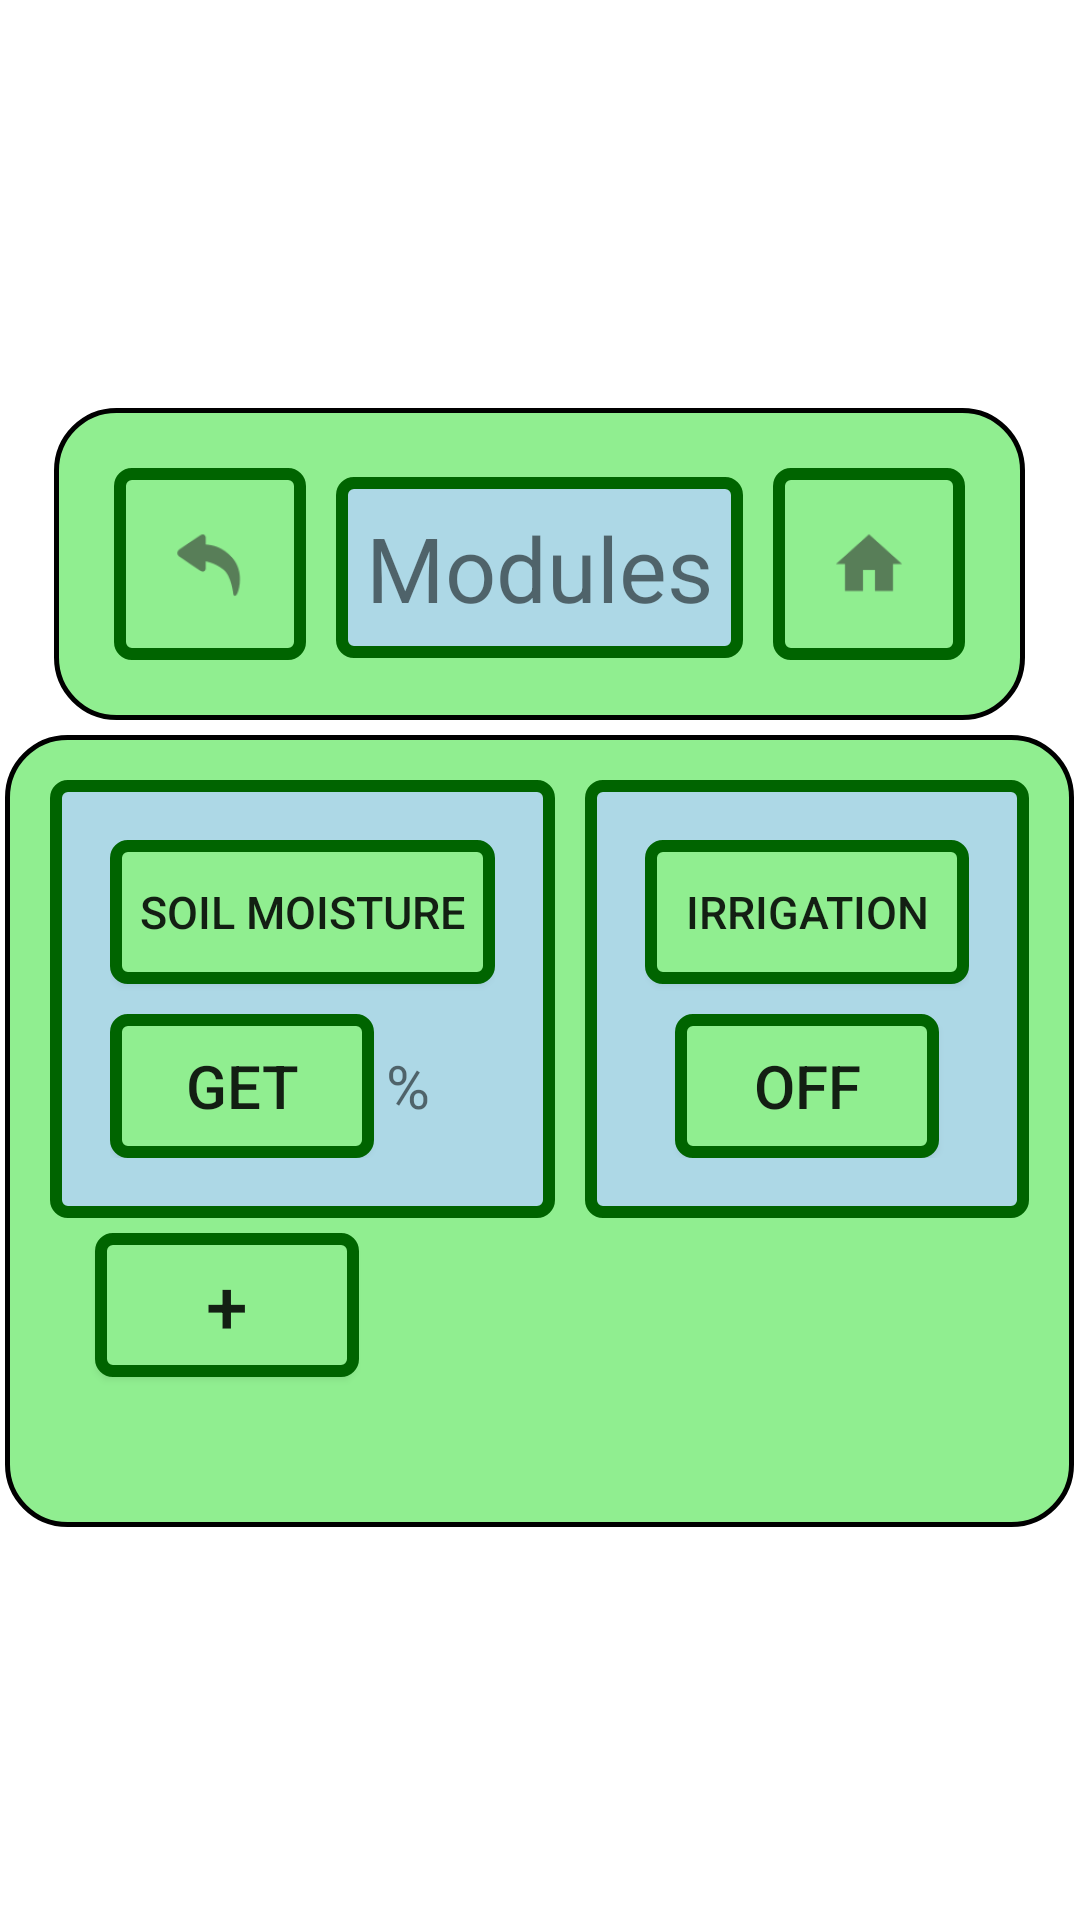

Icons on this 1080px x 1920px Android screen, each with the point to tap as (x,y):
back: (210,564)
home: (869,564)
